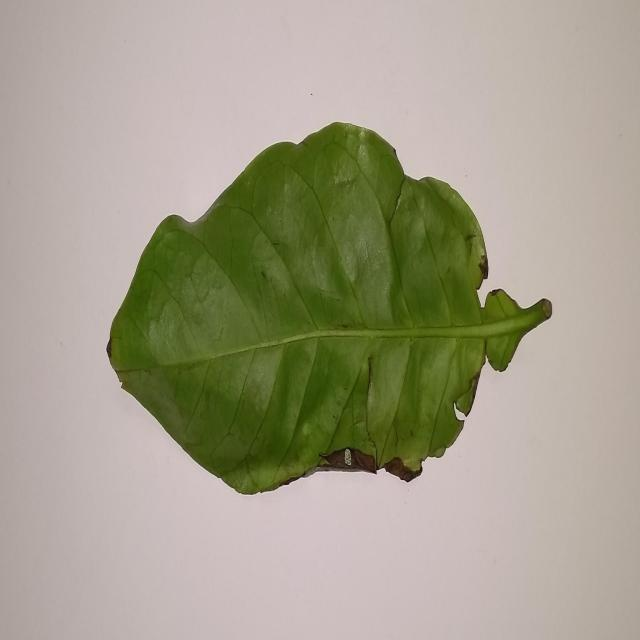Enfermedad-Antracnosis: (106, 122, 553, 498)
